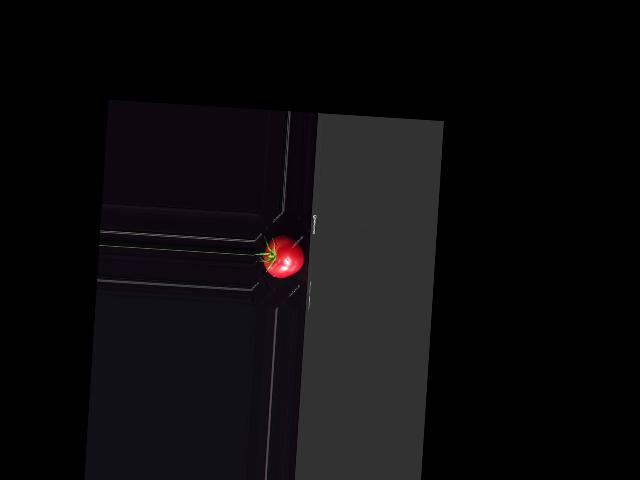tomato: (262, 234, 305, 279)
